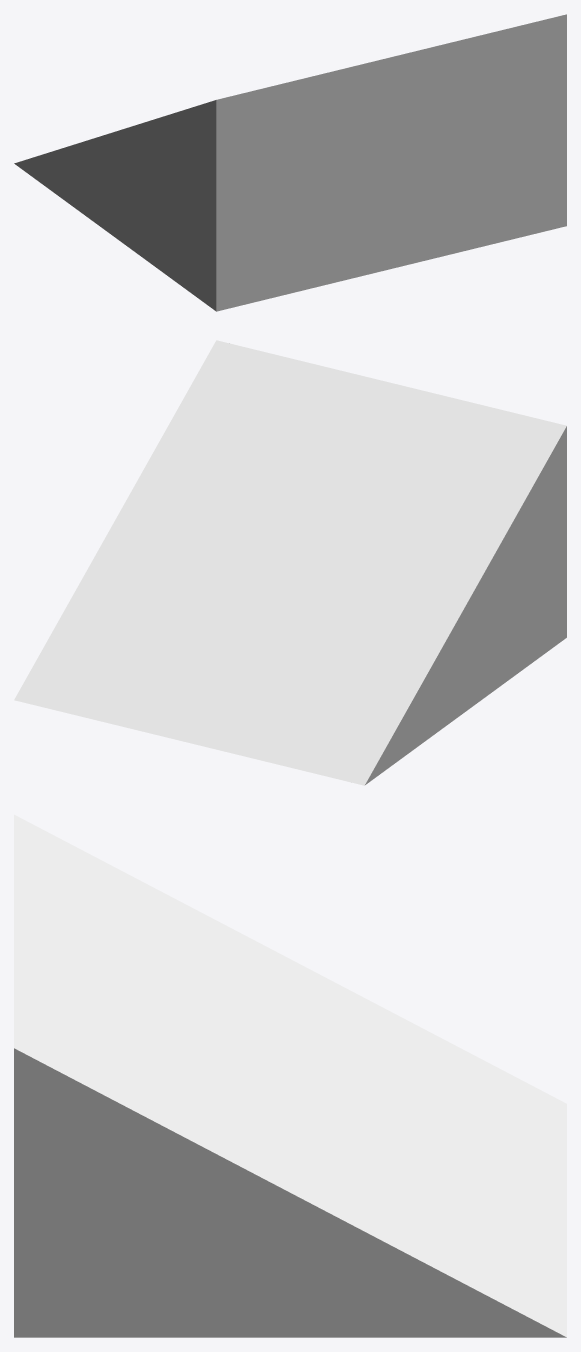
File: Kicker_30deg_20x20x11_5.fbx
The picture shows the model from 3 angles, top to bottom: view 1: azimuth 30°, elevation 25°; view 2: azimuth 150°, elevation 25°; view 3: azimuth 270°, elevation 25°; orthographic projection. The views are drawn at different scales.
Parts seen in each view (by area): view 1: Kicker_30deg_20x20x11.5; view 2: Kicker_30deg_20x20x11.5; view 3: Kicker_30deg_20x20x11.5.
Boxes of the visible parts, bbox=[...] form: Kicker_30deg_20x20x11.5: bbox=[14, 14, 566, 311]; Kicker_30deg_20x20x11.5: bbox=[14, 340, 566, 785]; Kicker_30deg_20x20x11.5: bbox=[14, 814, 566, 1337].
Size of the model in its own units: 20 by 11.55 by 20.
